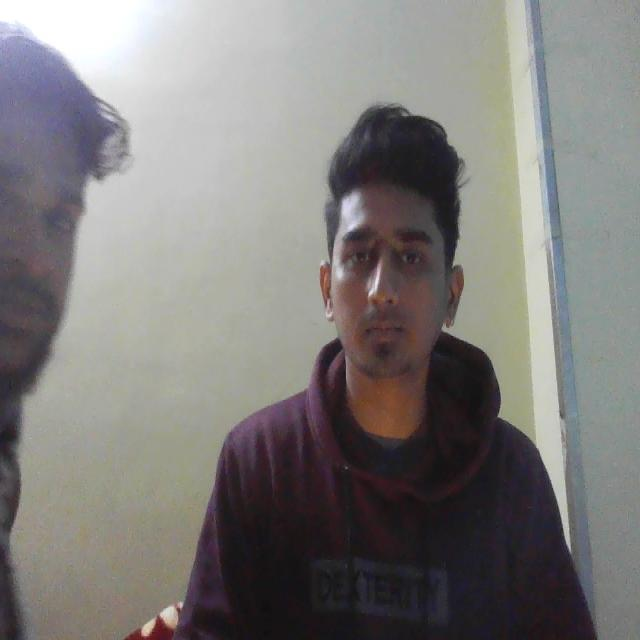real: (317, 117, 473, 412)
